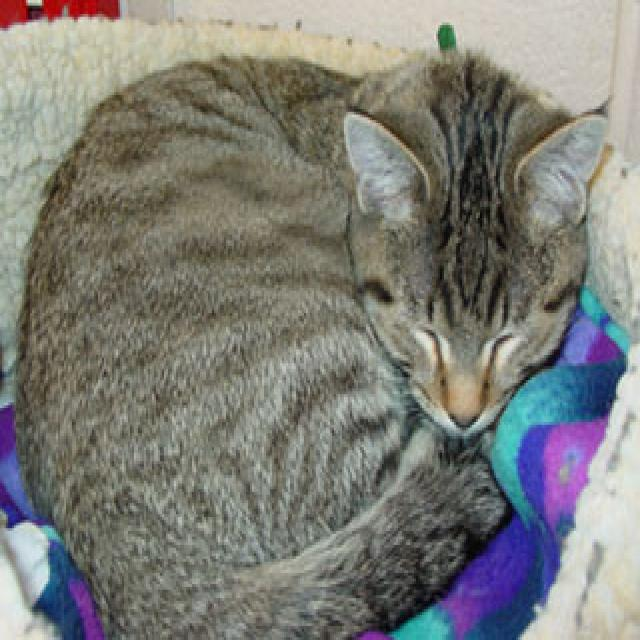Cats: (12, 39, 612, 637)
